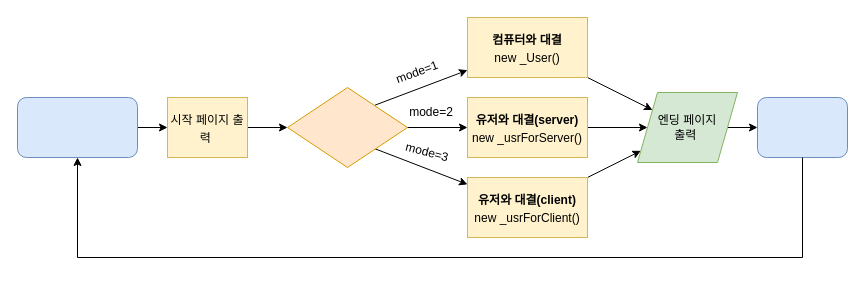
Image size: 865x283. Some labels were removed from this diagram. The centre of each missing label's shape, as x and y in pixels:
"END" goes at pixel 802 127.
"Start new _StartPage" goes at pixel 77 127.
"게임 모드(int mode) 입력" goes at pixel 347 127.
